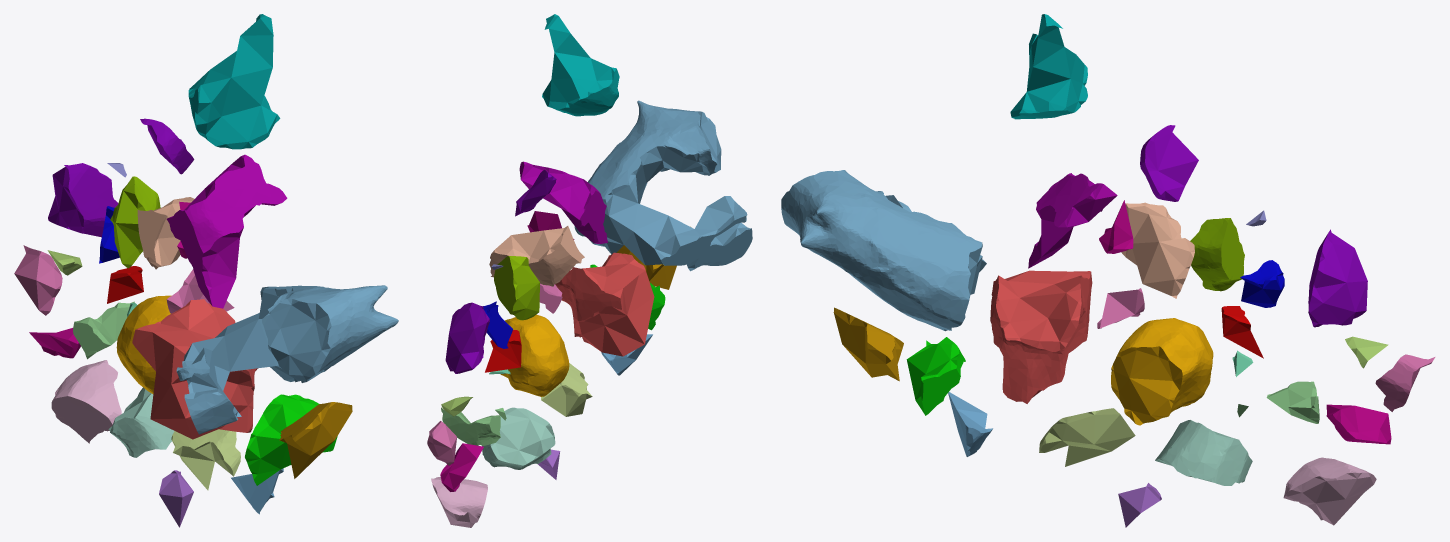
File: fractured_40_28pcs_transformed.glb
3 renders of one model, left to right at view 1: azimuth 30°, elevation 25°; view 2: azimuth 150°, elevation 25°; view 3: azimuth 270°, elevation 25°, orthographic. The views are drawn at different scales.
Parts seen in each view (by area): view 1: piece_2.obj, piece_12.obj, piece_13.obj, piece_1.obj, piece_6.obj, piece_18.obj, piece_8.obj, piece_17.obj, piece_5.obj, piece_4.obj, piece_14.obj, piece_0.obj (+11 smaller); view 2: piece_2.obj, piece_1.obj, piece_13.obj, piece_0.obj, piece_7.obj, piece_4.obj, piece_12.obj, piece_18.obj, piece_14.obj, piece_6.obj, piece_5.obj, piece_3.obj (+10 smaller); view 3: piece_2.obj, piece_1.obj, piece_0.obj, piece_13.obj, piece_7.obj, piece_18.obj, piece_4.obj, piece_12.obj, piece_6.obj, piece_5.obj, piece_14.obj, piece_16.obj (+11 smaller).
Boxes of the visible parts, <box> form: piece_2.obj: <box>176,285,398,434</box>; piece_12.obj: <box>166,154,287,308</box>; piece_13.obj: <box>188,14,280,149</box>; piece_1.obj: <box>132,299,257,439</box>; piece_6.obj: <box>51,360,121,443</box>; piece_18.obj: <box>48,163,118,237</box>; piece_8.obj: <box>245,394,337,485</box>; piece_17.obj: <box>279,402,352,478</box>; piece_5.obj: <box>171,429,240,490</box>; piece_4.obj: <box>108,387,174,457</box>; piece_14.obj: <box>110,176,160,268</box>; piece_0.obj: <box>116,295,171,393</box>; piece_2.obj: <box>574,100,752,271</box>; piece_1.obj: <box>555,252,654,356</box>; piece_13.obj: <box>542,14,619,116</box>; piece_0.obj: <box>492,314,569,396</box>; piece_7.obj: <box>489,226,584,286</box>; piece_4.obj: <box>482,407,555,469</box>; piece_12.obj: <box>519,161,607,243</box>; piece_18.obj: <box>445,302,489,373</box>; piece_14.obj: <box>494,256,539,320</box>; piece_6.obj: <box>431,477,487,527</box>; piece_5.obj: <box>541,363,592,416</box>; piece_3.obj: <box>441,407,500,445</box>; piece_2.obj: <box>781,170,986,331</box>; piece_1.obj: <box>990,270,1092,403</box>; piece_0.obj: <box>1111,318,1213,425</box>; piece_13.obj: <box>1010,14,1087,119</box>; piece_7.obj: <box>1121,202,1194,298</box>; piece_18.obj: <box>1308,229,1367,327</box>; piece_4.obj: <box>1155,420,1252,485</box>; piece_12.obj: <box>1028,173,1117,268</box>; piece_6.obj: <box>1283,457,1376,525</box>; piece_5.obj: <box>1039,408,1135,466</box>; piece_14.obj: <box>1190,218,1244,291</box>; piece_16.obj: <box>1140,125,1198,201</box>.
Size of the model in its own units: 0.6704 by 1.77 by 1.96.
